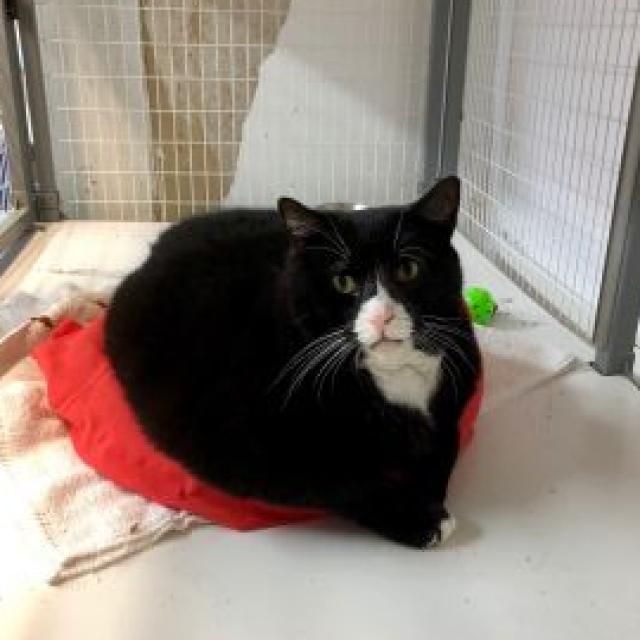Tuxedo: (105, 170, 486, 555)
